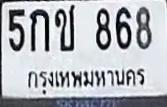5: (8, 8, 24, 51)
6: (115, 6, 131, 48)
8: (135, 6, 151, 49), (96, 7, 110, 49)
A01: (29, 8, 49, 51)
A10: (54, 4, 74, 50)
BKK: (20, 62, 150, 97)
